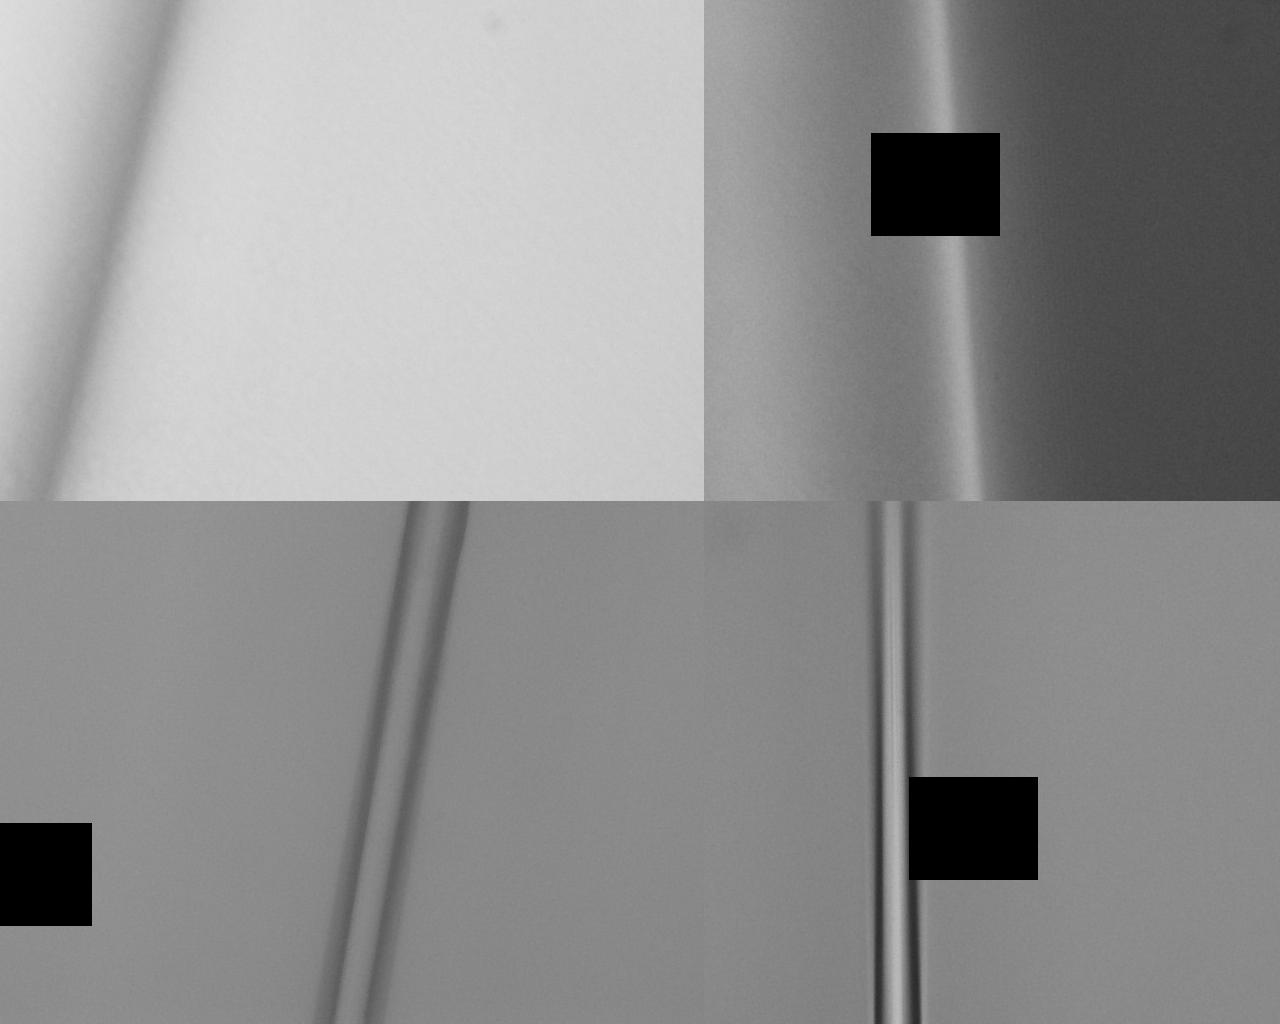fiber: (614, 638, 1280, 902), (25, 634, 321, 1024), (614, 324, 1280, 428)
